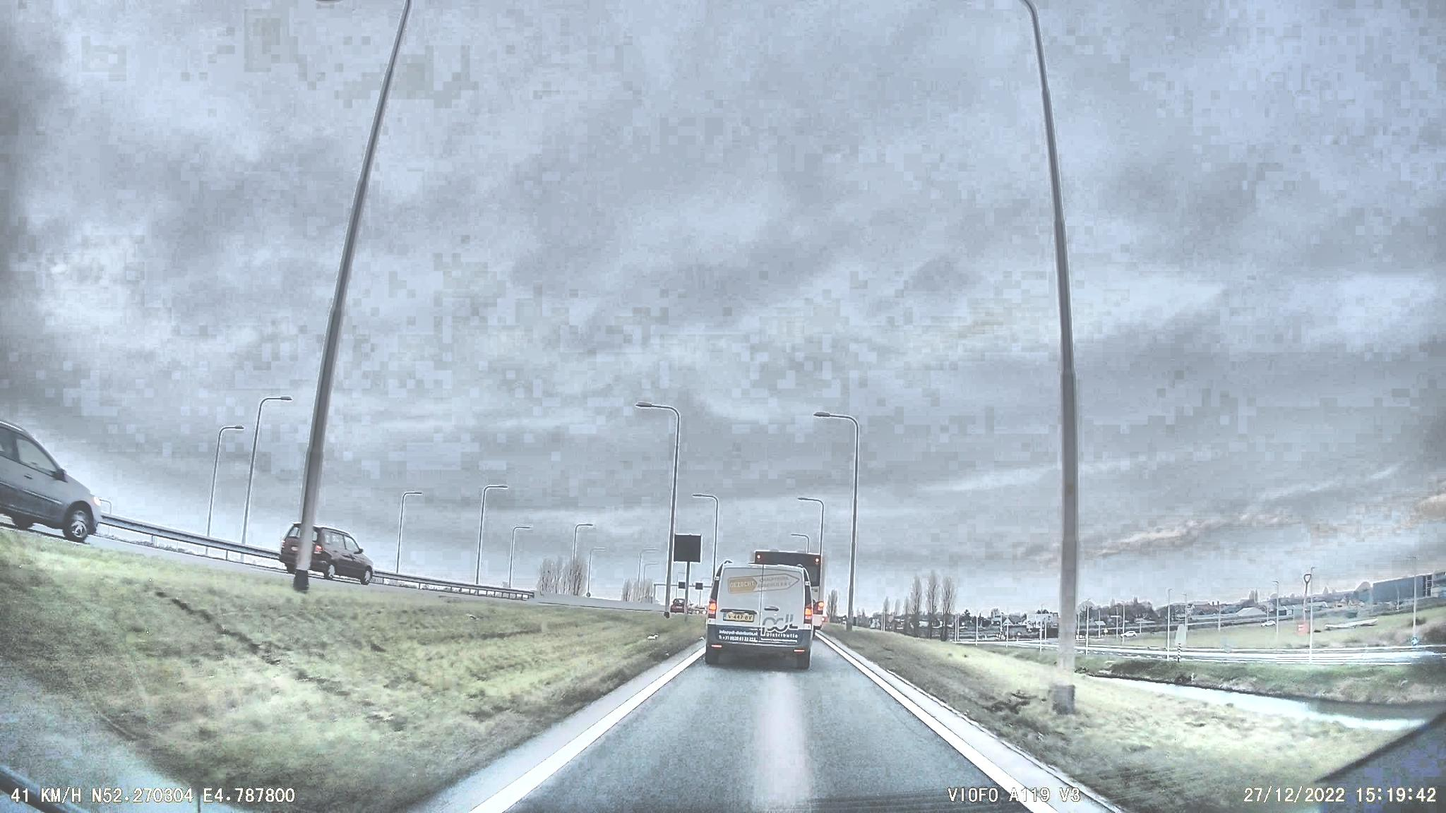Roads: (388, 644, 1128, 813)
